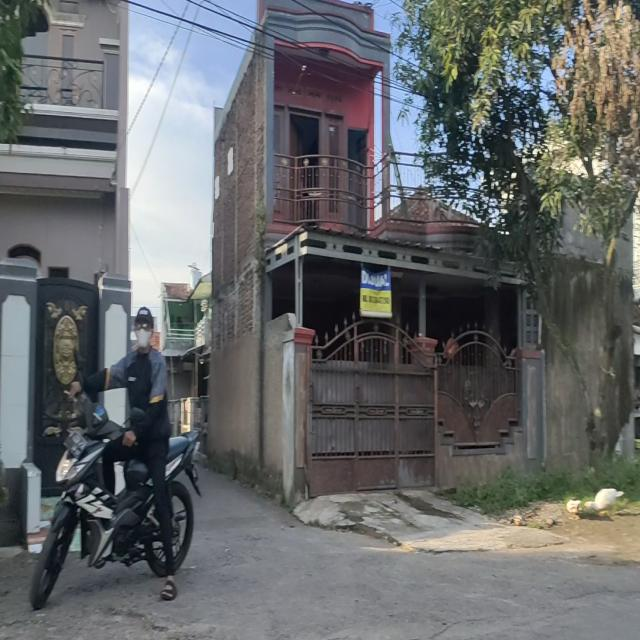no-helmet: (133, 305, 154, 351)
